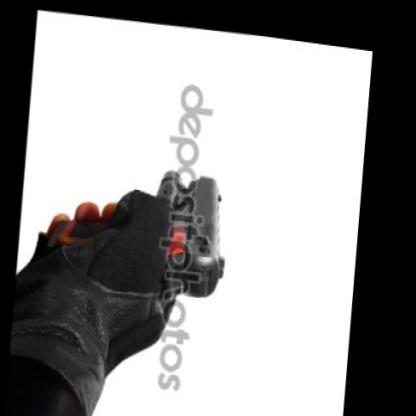pistol: (47, 151, 237, 292)
